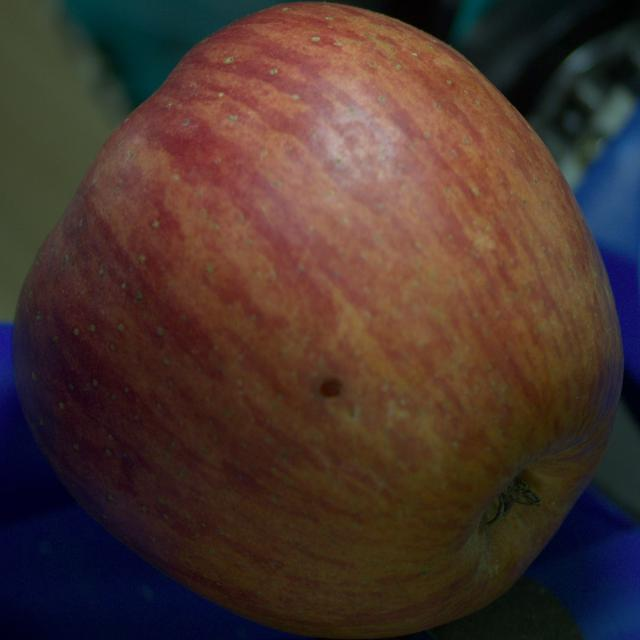apple: (14, 3, 623, 638)
pest: (319, 378, 342, 398)
